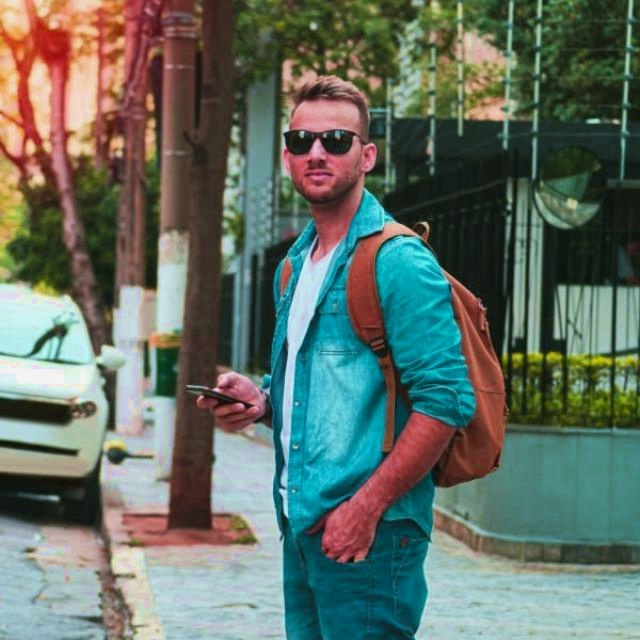Sin_Casco_Mascarrilla: (279, 78, 377, 208)
Sin_Chaleco: (265, 219, 440, 539)
